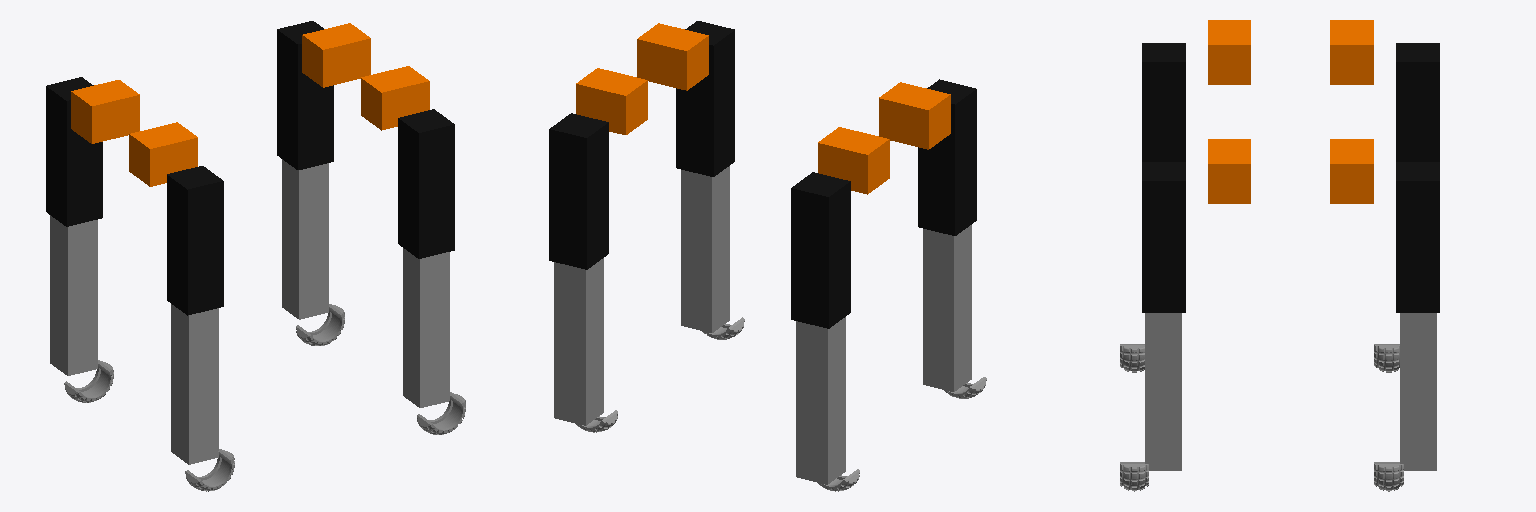
The robot description file, URDF, robot "spot_box_only":
<?xml version="1.0" encoding="utf-8"?>
<robot name="spot_box_only">

  <material name="orange">
    <color rgba="1.0 0.5 0.0 1"/>
  </material>
  <material name="black">
    <color rgba="0.1 0.1 0.1 1"/>
  </material>
  <material name="grey">
    <color rgba="0.6 0.6 0.6 1"/>
  </material>

  <!-- =========================
       BASE
       ========================= -->
  <link name="base_link">
    <visual>
      <geometry>
        <mesh filename="stl/mainbody.stl" scale="0.001 0.001 0.001"/>
      </geometry>
      <material name="black"/>
      <origin rpy="0 0 3.14159" xyz="0.045 0.060 -0.015"/>
    </visual>
    <collision>
      <origin xyz="0 0 0" rpy="0 0 0"/>
      <geometry>
        <box size="0.20 0.11 0.07"/>
      </geometry>
    </collision>
    <inertial>
  <origin xyz="0 0 0" rpy="0 0 0"/>
  <mass value="1.2"/>
  <inertia ixx="0.00170" ixy="0" ixz="0"
           iyy="0.00449" iyz="0"
           izz="0.00521"/>
</inertial>
  </link>

  <!-- =========================
       FRONT LEFT
       ========================= -->
  <link name="front_left_hip">
    <visual>
      <origin xyz="0 0 0" rpy="0 0 0"/>
      <geometry>
        <box size="0.04 0.03 0.03"/>
      </geometry>
      <material name="orange"/>
    </visual>
    <collision>
      <origin xyz="0 0 0" rpy="0 0 0"/>
      <geometry>
        <box size="0.04 0.03 0.03"/>
      </geometry>
    </collision>
   <inertial> 
  <origin xyz="0 0 0" rpy="0 0 0"/>
  <mass value="0.10"/>
  <inertia ixx="0.000015" ixy="0" ixz="0"
           iyy="0.000021" iyz="0"
           izz="0.000021"/>
</inertial>
  </link>

  <joint name="motor_front_left_hip" type="revolute">
    <parent link="base_link"/>
    <child link="front_left_hip"/>
    <origin xyz="0.096 0.042 0.0" rpy="0 0 0"/>
    <axis xyz="1 0 0"/>
    <limit effort="100.0" lower="-1.04" upper="1.04" velocity="0.7"/>
    <dynamics damping="0.0" friction="0.0"/>
  </joint>

  <link name="front_left_upper_leg">
    <visual>
      <origin xyz="0 0 -0.05" rpy="0 0 0"/>
      <geometry>
        <box size="0.03 0.03 0.10"/>
      </geometry>
      <material name="black"/>
    </visual>
    <collision>
      <origin xyz="0 0 -0.05" rpy="0 0 0"/>
      <geometry>
        <box size="0.03 0.03 0.10"/>
      </geometry>
    </collision>
    <inertial>
  <origin xyz="0 0 -0.05" rpy="0 0 0"/>
  <mass value="0.10"/>
  <inertia ixx="0.000091" ixy="0" ixz="0"
           iyy="0.000091" iyz="0"
           izz="0.000015"/>
</inertial>
  </link>

  <joint name="motor_front_left_upper_leg" type="revolute">
    <parent link="front_left_hip"/>
    <child link="front_left_upper_leg"/>
    <origin xyz="0.0 0.045 0.0" rpy="0 0 0"/>
    <axis xyz="0 1 0"/>
    <limit effort="100.0" lower="-1.571" upper="2.59" velocity="0.7"/>
    <dynamics damping="0.0" friction="0.0"/>
  </joint>

  <link name="front_left_lower_leg">
    <visual>
      <origin xyz="0 0 -0.06" rpy="0 0 0"/>
      <geometry>
        <box size="0.025 0.025 0.12"/>
      </geometry>
      <material name="grey"/>
    </visual>
    <collision>
      <origin xyz="0 0 -0.06" rpy="0 0 0"/>
      <geometry>
        <box size="0.025 0.025 0.12"/>
      </geometry>
    </collision>
    <inertial>
  <origin xyz="0 0 -0.06" rpy="0 0 0"/>
  <mass value="0.08"/>
  <inertia ixx="0.000100" ixy="0" ixz="0"
           iyy="0.000100" iyz="0"
           izz="0.0000083"/>
</inertial>
  </link>

  <joint name="motor_front_left_lower_leg" type="revolute">
    <parent link="front_left_upper_leg"/>
    <child link="front_left_lower_leg"/>
    <origin xyz="0.0 0.0 -0.10" rpy="0 0 0"/>
    <axis xyz="0 1 0"/>
    <limit effort="100.0" lower="-2.9" upper="1.671" velocity="0.7"/>
    <dynamics damping="0.0" friction="0.0"/>
  </joint>

  <link name="front_left_foot">
    <visual>
      <geometry>
        <mesh filename="stl/foot.stl" scale="0.001 0.001 0.001"/>
      </geometry>
      <origin rpy="0 -0.40010 0" xyz="0 -0.01 0"/>
      <material name="grey"/>
    </visual>
    <collision>
      <geometry>
        <mesh filename="stl/foot.stl" scale="0.001 0.001 0.001"/>
      </geometry>
      <origin rpy="0 -0.40010 0" xyz="0 -0.01 0"/>
      <contact_coefficients mu="100.0"/>
    </collision>
    <inertial>
  <origin xyz="0 0 -0.02" rpy="0 0 0"/>
  <mass value="0.005"/>
  <inertia ixx="0.00000083" ixy="0" ixz="0"
           iyy="0.00000133" iyz="0"
           izz="0.00000083"/>
</inertial>
  </link>

  <joint name="front_left_leg_foot" type="fixed">
    <parent link="front_left_lower_leg"/>
    <child link="front_left_foot"/>
    <origin xyz="0 0 -0.12" rpy="0 0 0"/>
  </joint>

  <!-- =========================
       FRONT RIGHT
       ========================= -->
  <link name="front_right_hip">
    <visual><origin xyz="0 0 0"/><geometry><box size="0.04 0.03 0.03"/></geometry><material name="orange"/></visual>
    <collision><origin xyz="0 0 0"/><geometry><box size="0.04 0.03 0.03"/></geometry></collision>
    <inertial>
  <origin xyz="0 0 0" rpy="0 0 0"/>
  <mass value="0.10"/>
  <inertia ixx="0.000015" ixy="0" ixz="0"
           iyy="0.000021" iyz="0"
           izz="0.000021"/>
</inertial>
  </link>

  <joint name="motor_front_right_hip" type="revolute">
    <parent link="base_link"/>
    <child link="front_right_hip"/>
    <origin xyz="0.096 -0.042 0.0" rpy="0 0 0"/>
    <axis xyz="1 0 0"/>
    <limit effort="100.0" lower="-1.04" upper="1.04" velocity="0.7"/>
  </joint>

  <link name="front_right_upper_leg">
    <visual><origin xyz="0 0 -0.05"/><geometry><box size="0.03 0.03 0.10"/></geometry><material name="black"/></visual>
    <collision><origin xyz="0 0 -0.05"/><geometry><box size="0.03 0.03 0.10"/></geometry></collision>
    <inertial>
  <origin xyz="0 0 -0.05" rpy="0 0 0"/>
  <mass value="0.10"/>
  <inertia ixx="0.000091" ixy="0" ixz="0"
           iyy="0.000091" iyz="0"
           izz="0.000015"/>
</inertial>
  </link>

  <joint name="motor_front_right_upper_leg" type="revolute">
    <parent link="front_right_hip"/>
    <child link="front_right_upper_leg"/>
    <origin xyz="0.0 -0.045 0.0" rpy="0 0 0"/>
    <axis xyz="0 1 0"/>
    <limit effort="100.0" lower="-1.571" upper="2.59" velocity="0.7"/>
  </joint>

  <link name="front_right_lower_leg">
    <visual><origin xyz="0 0 -0.06"/><geometry><box size="0.025 0.025 0.12"/></geometry><material name="grey"/></visual>
    <collision><origin xyz="0 0 -0.06"/><geometry><box size="0.025 0.025 0.12"/></geometry></collision>
    <inertial>
  <origin xyz="0 0 -0.06" rpy="0 0 0"/>
  <mass value="0.08"/>
  <inertia ixx="0.000100" ixy="0" ixz="0"
           iyy="0.000100" iyz="0"
           izz="0.0000083"/>
</inertial>
  </link>

  <joint name="motor_front_right_lower_leg" type="revolute">
    <parent link="front_right_upper_leg"/>
    <child link="front_right_lower_leg"/>
    <origin xyz="0.0 0.0 -0.10" rpy="0 0 0"/>
    <axis xyz="0 1 0"/>
    <limit effort="100.0" lower="-2.9" upper="1.671" velocity="0.7"/>
  </joint>

  <link name="front_right_foot">
    <visual>
      <geometry>
        <mesh filename="stl/foot.stl" scale="0.001 0.001 0.001"/>
      </geometry>
      <origin rpy="0 -0.40010 0" xyz="0 -0.01 0"/>
      <material name="grey"/>
    </visual>
    <collision>
      <geometry>
        <mesh filename="stl/foot.stl" scale="0.001 0.001 0.001"/>
      </geometry>
      <origin rpy="0 -0.40010 0" xyz="0 -0.01 0"/>
      <contact_coefficients mu="100.0"/>
    </collision>
    <inertial>
  <origin xyz="0 0 -0.02" rpy="0 0 0"/>
  <mass value="0.005"/>
  <inertia ixx="0.00000083" ixy="0" ixz="0"
           iyy="0.00000133" iyz="0"
           izz="0.00000083"/>
</inertial>
  </link>

  <joint name="front_right_leg_foot" type="fixed">
    <parent link="front_right_lower_leg"/>
    <child link="front_right_foot"/>
    <origin xyz="0 0 -0.12" rpy="0 0 0"/>
  </joint>

  <!-- =========================
       BACK LEFT
       ========================= -->
  <link name="back_left_hip">
    <visual><origin xyz="0 0 0"/><geometry><box size="0.04 0.03 0.03"/></geometry><material name="orange"/></visual>
    <collision><origin xyz="0 0 0"/><geometry><box size="0.04 0.03 0.03"/></geometry></collision>
    <inertial>
  <origin xyz="0 0 0" rpy="0 0 0"/>
  <mass value="0.10"/>
  <inertia ixx="0.000015" ixy="0" ixz="0"
           iyy="0.000021" iyz="0"
           izz="0.000021"/>
</inertial>
  </link>

  <joint name="motor_back_left_hip" type="revolute">
    <parent link="base_link"/>
    <child link="back_left_hip"/>
    <origin xyz="-0.096 0.042 0.0" rpy="0 0 0"/>
    <axis xyz="1 0 0"/>
    <limit effort="100.0" lower="-1.04" upper="1.04" velocity="0.7"/>
  </joint>

  <link name="back_left_upper_leg">
    <visual><origin xyz="0 0 -0.05"/><geometry><box size="0.03 0.03 0.10"/></geometry><material name="black"/></visual>
    <collision><origin xyz="0 0 -0.05"/><geometry><box size="0.03 0.03 0.10"/></geometry></collision>
    <inertial>
  <origin xyz="0 0 -0.05" rpy="0 0 0"/>
  <mass value="0.10"/>
  <inertia ixx="0.000091" ixy="0" ixz="0"
           iyy="0.000091" iyz="0"
           izz="0.000015"/>
</inertial>
  </link>

  <joint name="motor_back_left_upper_leg" type="revolute">
    <parent link="back_left_hip"/>
    <child link="back_left_upper_leg"/>
    <origin xyz="0.0 0.045 0.0" rpy="0 0 0"/>
    <axis xyz="0 1 0"/>
    <limit effort="100.0" lower="-1.571" upper="2.59" velocity="0.7"/>
  </joint>

  <link name="back_left_lower_leg">
    <visual><origin xyz="0 0 -0.06"/><geometry><box size="0.025 0.025 0.12"/></geometry><material name="grey"/></visual>
    <collision><origin xyz="0 0 -0.06"/><geometry><box size="0.025 0.025 0.12"/></geometry></collision>
    <inertial>
  <origin xyz="0 0 -0.06" rpy="0 0 0"/>
  <mass value="0.08"/>
  <inertia ixx="0.000100" ixy="0" ixz="0"
           iyy="0.000100" iyz="0"
           izz="0.0000083"/>
</inertial>
  </link>

  <joint name="motor_back_left_lower_leg" type="revolute">
    <parent link="back_left_upper_leg"/>
    <child link="back_left_lower_leg"/>
    <origin xyz="0.0 0.0 -0.10" rpy="0 0 0"/>
    <axis xyz="0 1 0"/>
    <limit effort="100.0" lower="-2.9" upper="1.671" velocity="0.7"/>
  </joint>

  <link name="back_left_foot">
    <visual>
      <geometry>
        <mesh filename="stl/foot.stl" scale="0.001 0.001 0.001"/>
      </geometry>
      <origin rpy="0 -0.40010 0" xyz="0 -0.01 0"/>
      <material name="grey"/>
    </visual>
    <collision>
      <geometry>
        <mesh filename="stl/foot.stl" scale="0.001 0.001 0.001"/>
      </geometry>
      <origin rpy="0 -0.40010 0" xyz="0 -0.01 0"/>
      <contact_coefficients mu="100.0"/>
    </collision>
    
      <inertial>
  <origin xyz="0 0 -0.02" rpy="0 0 0"/>
  <mass value="0.005"/>
  <inertia ixx="0.00000083" ixy="0" ixz="0"
           iyy="0.00000133" iyz="0"
           izz="0.00000083"/>
</inertial>
  </link>

  <joint name="back_left_leg_foot" type="fixed">
    <parent link="back_left_lower_leg"/>
    <child link="back_left_foot"/>
    <origin xyz="0 0 -0.12" rpy="0 0 0"/>
  </joint>

  <!-- =========================
       BACK RIGHT
       ========================= -->
  <link name="back_right_hip">
    <visual><origin xyz="0 0 0"/><geometry><box size="0.04 0.03 0.03"/></geometry><material name="orange"/></visual>
    <collision><origin xyz="0 0 0"/><geometry><box size="0.04 0.03 0.03"/></geometry></collision>
    <inertial>
  <origin xyz="0 0 0" rpy="0 0 0"/>
  <mass value="0.10"/>
  <inertia ixx="0.000015" ixy="0" ixz="0"
           iyy="0.000021" iyz="0"
           izz="0.000021"/>
</inertial>
  </link>

  <joint name="motor_back_right_hip" type="revolute">
    <parent link="base_link"/>
    <child link="back_right_hip"/>
    <origin xyz="-0.096 -0.042 0.0" rpy="0 0 0"/>
    <axis xyz="1 0 0"/>
    <limit effort="100.0" lower="-1.04" upper="1.04" velocity="0.7"/>
  </joint>

  <link name="back_right_upper_leg">
    <visual><origin xyz="0 0 -0.05"/><geometry><box size="0.03 0.03 0.10"/></geometry><material name="black"/></visual>
    <collision><origin xyz="0 0 -0.05"/><geometry><box size="0.03 0.03 0.10"/></geometry></collision>
    <inertial>
  <origin xyz="0 0 -0.05" rpy="0 0 0"/>
  <mass value="0.10"/>
  <inertia ixx="0.000091" ixy="0" ixz="0"
           iyy="0.000091" iyz="0"
           izz="0.000015"/>
</inertial>
  </link>

  <joint name="motor_back_right_upper_leg" type="revolute">
    <parent link="back_right_hip"/>
    <child link="back_right_upper_leg"/>
    <origin xyz="0.0 -0.045 0.0" rpy="0 0 0"/>
    <axis xyz="0 1 0"/>
    <limit effort="100.0" lower="-1.571" upper="2.59" velocity="0.7"/>
  </joint>

  <link name="back_right_lower_leg">
    <visual><origin xyz="0 0 -0.06"/><geometry><box size="0.025 0.025 0.12"/></geometry><material name="grey"/></visual>
    <collision><origin xyz="0 0 -0.06"/><geometry><box size="0.025 0.025 0.12"/></geometry></collision>
    <inertial>
  <origin xyz="0 0 -0.06" rpy="0 0 0"/>
  <mass value="0.08"/>
  <inertia ixx="0.000100" ixy="0" ixz="0"
           iyy="0.000100" iyz="0"
           izz="0.0000083"/>
</inertial>
  </link>

  <joint name="motor_back_right_lower_leg" type="revolute">
    <parent link="back_right_upper_leg"/>
    <child link="back_right_lower_leg"/>
    <origin xyz="0.0 0.0 -0.10" rpy="0 0 0"/>
    <axis xyz="0 1 0"/>
    <limit effort="100.0" lower="-2.9" upper="1.671" velocity="0.7"/>
  </joint>

  <link name="back_right_foot">
    <visual>
      <geometry>
        <mesh filename="stl/foot.stl" scale="0.001 0.001 0.001"/>
      </geometry>
      <origin rpy="0 -0.40010 0" xyz="0 -0.01 0"/>
      <material name="grey"/>
    </visual>
    <collision>
      <geometry>
        <mesh filename="stl/foot.stl" scale="0.001 0.001 0.001"/>
      </geometry>
      <origin rpy="0 -0.40010 0" xyz="0 -0.01 0"/>
      <contact_coefficients mu="100.0"/>
    </collision>
    <inertial>
  <origin xyz="0 0 -0.02" rpy="0 0 0"/>
  <mass value="0.005"/>
  <inertia ixx="0.00000083" ixy="0" ixz="0"
           iyy="0.00000133" iyz="0"
           izz="0.00000083"/>
</inertial>
  </link>

  <joint name="back_right_leg_foot" type="fixed">
    <parent link="back_right_lower_leg"/>
    <child link="back_right_foot"/>
    <origin xyz="0 0 -0.12" rpy="0 0 0"/>
  </joint>

</robot>

--- Facts derived from the render (not from the file) ---
The picture shows the robot from 3 angles, left to right: view 1: azimuth 30°, elevation 25°; view 2: azimuth 150°, elevation 25°; view 3: azimuth 270°, elevation 25°; orthographic projection.
Robot: spot_box_only — 17 links, 16 joints (12 revolute, 4 fixed); root link base_link; default pose: every joint at zero.
Visible links, largest first — view 1: front_right_upper_leg, back_right_upper_leg, back_left_lower_leg, back_right_lower_leg, front_right_lower_leg, front_left_lower_leg, front_left_upper_leg, back_left_upper_leg, front_left_hip, back_left_hip, back_right_hip, front_right_hip (+4 smaller); view 2: front_left_upper_leg, back_left_upper_leg, front_left_lower_leg, back_left_lower_leg, front_right_lower_leg, back_right_lower_leg, back_right_upper_leg, front_right_upper_leg, back_right_hip, front_right_hip, back_left_hip, front_left_hip; view 3: front_left_upper_leg, front_right_upper_leg, front_left_lower_leg, front_right_lower_leg, back_left_upper_leg, back_right_upper_leg, front_left_hip, back_left_hip, front_right_hip, back_right_hip, front_left_foot, front_right_foot (+2 smaller).
Boxes of the visible links, x1,y1,x2,y2 form: front_right_upper_leg: (398,109,454,258); back_right_upper_leg: (167,166,223,315); back_left_lower_leg: (50,215,97,375); back_right_lower_leg: (171,304,218,464); front_right_lower_leg: (403,248,449,407); front_left_lower_leg: (282,159,328,319); front_left_upper_leg: (277,21,333,169); back_left_upper_leg: (46,77,102,226); front_left_hip: (302,23,370,87); back_left_hip: (71,80,139,143); back_right_hip: (129,122,197,186); front_right_hip: (361,66,429,130); front_left_upper_leg: (549,113,608,269); back_left_upper_leg: (791,172,850,328); front_left_lower_leg: (554,258,603,425); back_left_lower_leg: (796,317,845,484); front_right_lower_leg: (681,166,729,332); back_right_lower_leg: (923,225,971,391); back_right_upper_leg: (918,79,976,235); front_right_upper_leg: (676,21,734,176); back_right_hip: (879,82,950,149); front_right_hip: (637,23,708,90); back_left_hip: (818,127,889,194); front_left_hip: (576,68,647,134); front_left_upper_leg: (1396,162,1439,312); front_right_upper_leg: (1142,162,1185,312); front_left_lower_leg: (1400,313,1436,470); front_right_lower_leg: (1145,313,1181,470); back_left_upper_leg: (1396,43,1439,161); back_right_upper_leg: (1142,43,1185,161); front_left_hip: (1330,139,1373,203); back_left_hip: (1330,20,1373,84); front_right_hip: (1208,139,1250,203); back_right_hip: (1208,20,1250,84); front_left_foot: (1374,462,1403,491); front_right_foot: (1120,462,1148,491).
Bounding box of the posed robot: 0.232 × 0.219 × 0.2544 m (x, y, z).
Meshes: 2 distinct files referenced, 4 mesh visuals loaded (1 binary STL); not drawn: 1 (reference not matched to a file when rendering).
